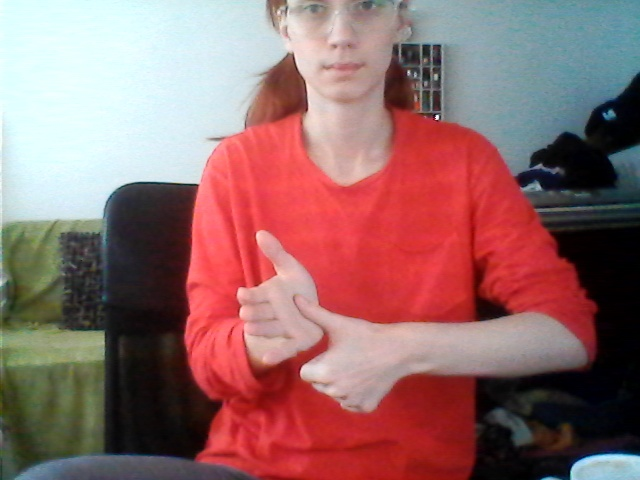pivo: (230, 222, 399, 421)
